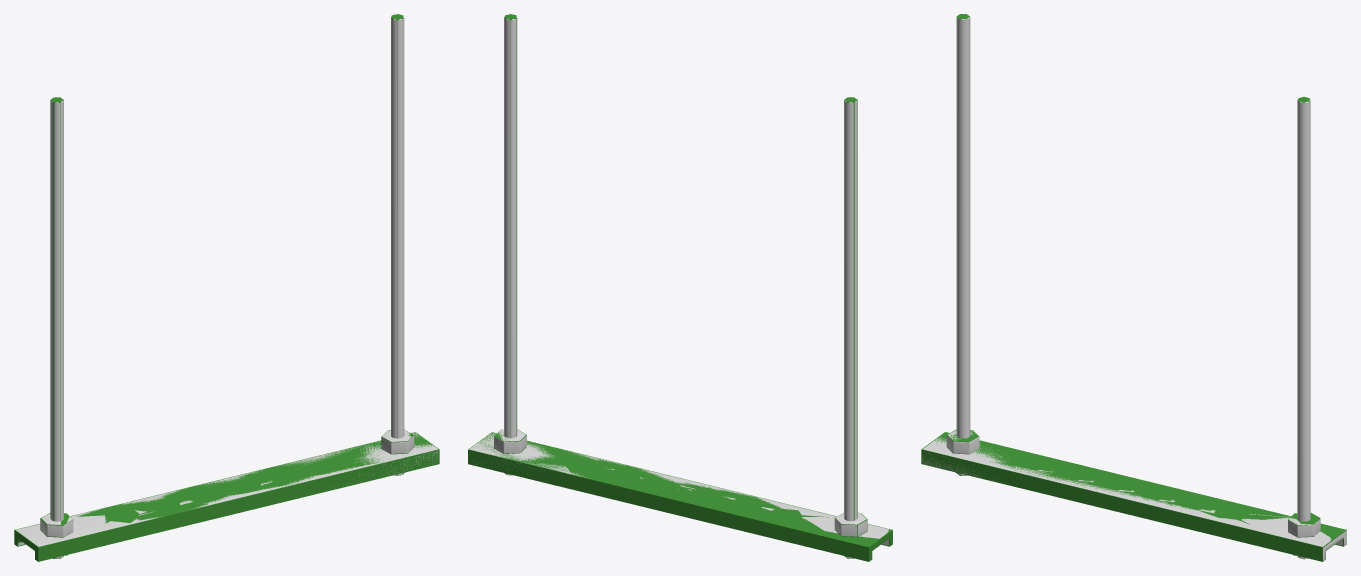
File: DuctHangingSupport_01_Mesh.fbx
3 views of the same model, side by side, from view 1: azimuth 30°, elevation 25°; view 2: azimuth 150°, elevation 25°; view 3: azimuth 330°, elevation 25° (orthographic).
Visible parts, largest first — view 1: HangingSupport_01_LOD0, HangingSupport_01_Col; view 2: HangingSupport_01_Col, HangingSupport_01_LOD0; view 3: HangingSupport_01_LOD0, HangingSupport_01_Col.
Part boxes in pixels (bbox=[...]): HangingSupport_01_LOD0: bbox=[16, 16, 438, 558]; HangingSupport_01_Col: bbox=[14, 14, 439, 561]; HangingSupport_01_Col: bbox=[468, 14, 892, 561]; HangingSupport_01_LOD0: bbox=[469, 16, 889, 558]; HangingSupport_01_LOD0: bbox=[922, 17, 1346, 560]; HangingSupport_01_Col: bbox=[921, 14, 1346, 561].
Size of what is drawn, in the model's own units: 95.59 by 104 by 9.88.
